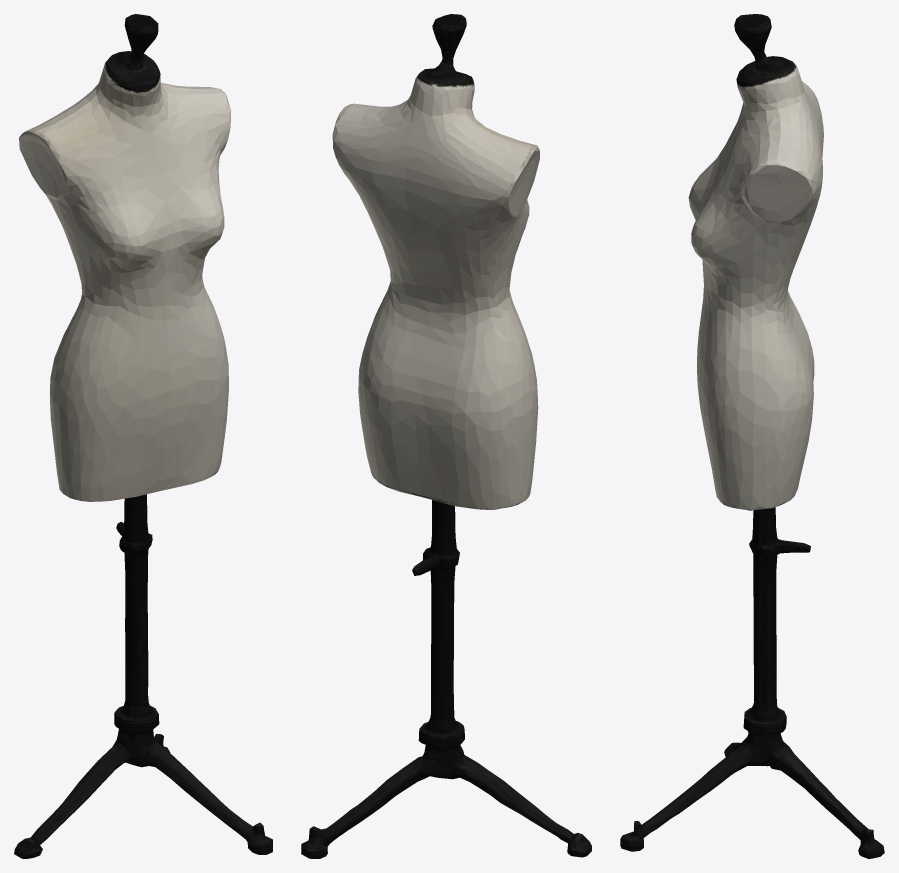
Rendered from form.glb.
3 views of the same model, side by side, from view 1: azimuth 30°, elevation 25°; view 2: azimuth 150°, elevation 25°; view 3: azimuth 270°, elevation 25° (orthographic).
Parts seen in each view (by area): view 1: geometry_0; view 2: geometry_0; view 3: geometry_0.
Boxes of the visible parts, bbox=[...] form: geometry_0: bbox=[14, 14, 272, 858]; geometry_0: bbox=[301, 14, 591, 858]; geometry_0: bbox=[620, 14, 884, 858].
Bounding box in the file's own units: 0.2933 × 0.9997 × 0.3.
Materials: 1 (1 with a texture image).
